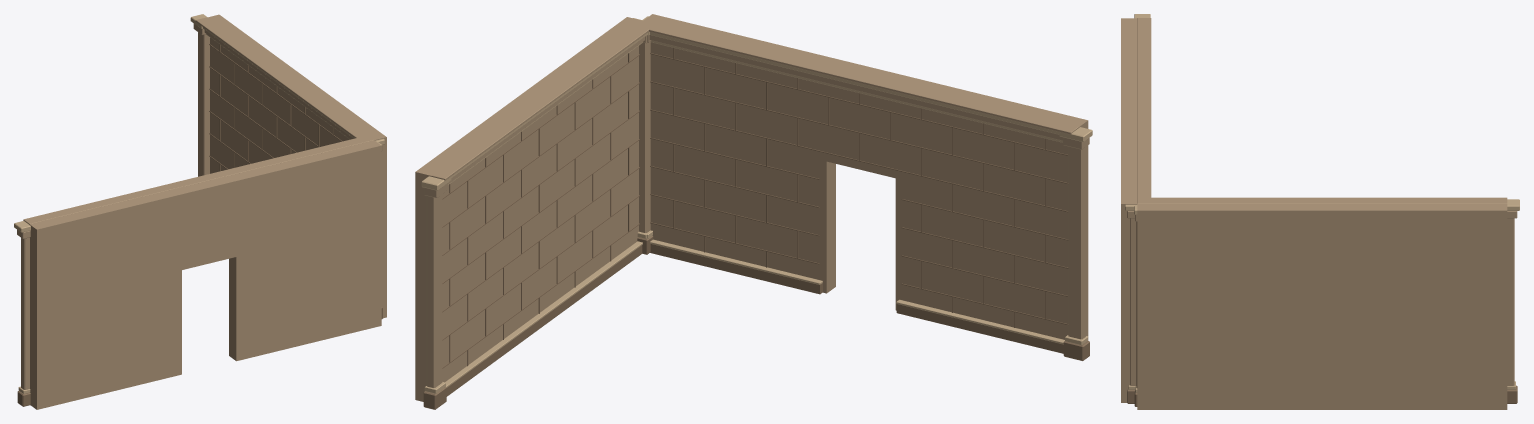
Rendered from b2_control_complete_shell.glb.
The picture shows the model from 3 angles, left to right: view 1: azimuth 30°, elevation 25°; view 2: azimuth 150°, elevation 25°; view 3: azimuth 270°, elevation 25°; orthographic projection. The views are drawn at different scales.
Visible parts, largest first — view 1: b2_control_front_Wall_Solid_00, b2_control_right_Wall_Solid_00, b2_control_front_Wall_Cornice_00_3_0, b2_control_right_Wall_Cornice_00_3_0, Pilaster_Shaft_004, Pilaster_Shaft_009, b2_control_right_Masonry_Real_joint_mesh, b2_control_right_Wall_Cornice_00_1_0; view 2: b2_control_front_Wall_Solid_00, b2_control_right_Wall_Solid_00, b2_control_front_Masonry_Real_joint_mesh, b2_control_right_Masonry_Real_joint_mesh, b2_control_front_Wall_Cornice_00_3_0, Pilaster_Shaft_009, b2_control_right_Wall_Cornice_00_3_0, Pilaster_Shaft_004, b2_control_front_Wall_Cornice_00_1_0, b2_control_right_Wall_Skirting_00_0, b2_control_front_Wall_Skirting_00_0, b2_control_front_Wall_Skirting_00_1 (+8 smaller); view 3: b2_control_right_Wall_Solid_00, b2_control_front_Wall_Solid_00, b2_control_front_Wall_Cornice_00_3_0, b2_control_right_Wall_Cornice_00_3_0, Pilaster_Shaft_004, Pilaster_Shaft_005.
Part boxes in pixels (x1,y1,x2,y2): b2_control_front_Wall_Solid_00: [29, 140, 381, 409]; b2_control_right_Wall_Solid_00: [207, 14, 386, 318]; b2_control_front_Wall_Cornice_00_3_0: [23, 137, 373, 224]; b2_control_right_Wall_Cornice_00_3_0: [195, 17, 373, 140]; Pilaster_Shaft_004: [198, 32, 209, 176]; Pilaster_Shaft_009: [21, 237, 29, 389]; b2_control_right_Masonry_Real_joint_mesh: [209, 44, 342, 171]; b2_control_right_Wall_Cornice_00_1_0: [204, 30, 353, 139]; b2_control_front_Wall_Solid_00: [644, 14, 1088, 339]; b2_control_right_Wall_Solid_00: [415, 17, 642, 401]; b2_control_front_Masonry_Real_joint_mesh: [650, 48, 1068, 327]; b2_control_right_Masonry_Real_joint_mesh: [442, 53, 639, 368]; b2_control_front_Wall_Cornice_00_3_0: [636, 20, 1078, 134]; Pilaster_Shaft_009: [1068, 146, 1085, 339]; b2_control_right_Wall_Cornice_00_3_0: [431, 21, 655, 180]; Pilaster_Shaft_004: [426, 194, 442, 387]; b2_control_front_Wall_Cornice_00_1_0: [649, 35, 1062, 140]; b2_control_right_Wall_Skirting_00_0: [446, 245, 642, 396]; b2_control_front_Wall_Skirting_00_0: [650, 244, 822, 294]; b2_control_front_Wall_Skirting_00_1: [896, 304, 1063, 353]; b2_control_right_Wall_Solid_00: [1137, 204, 1507, 409]; b2_control_front_Wall_Solid_00: [1121, 18, 1137, 402]; b2_control_front_Wall_Cornice_00_3_0: [1137, 18, 1151, 203]; b2_control_right_Wall_Cornice_00_3_0: [1137, 197, 1507, 203]; Pilaster_Shaft_004: [1507, 218, 1514, 385]; Pilaster_Shaft_005: [1130, 218, 1136, 385].
Size of the model in its own units: 8.1 by 3.81 by 6.9.
